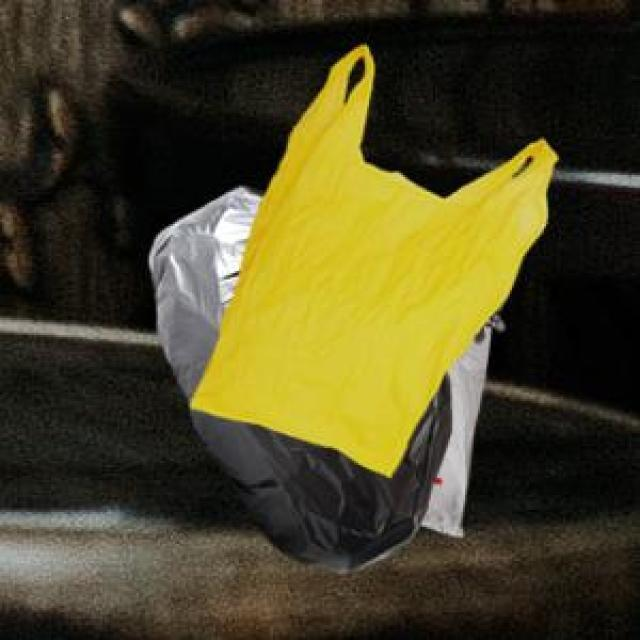miscellaneous trash: (145, 184, 499, 570)
